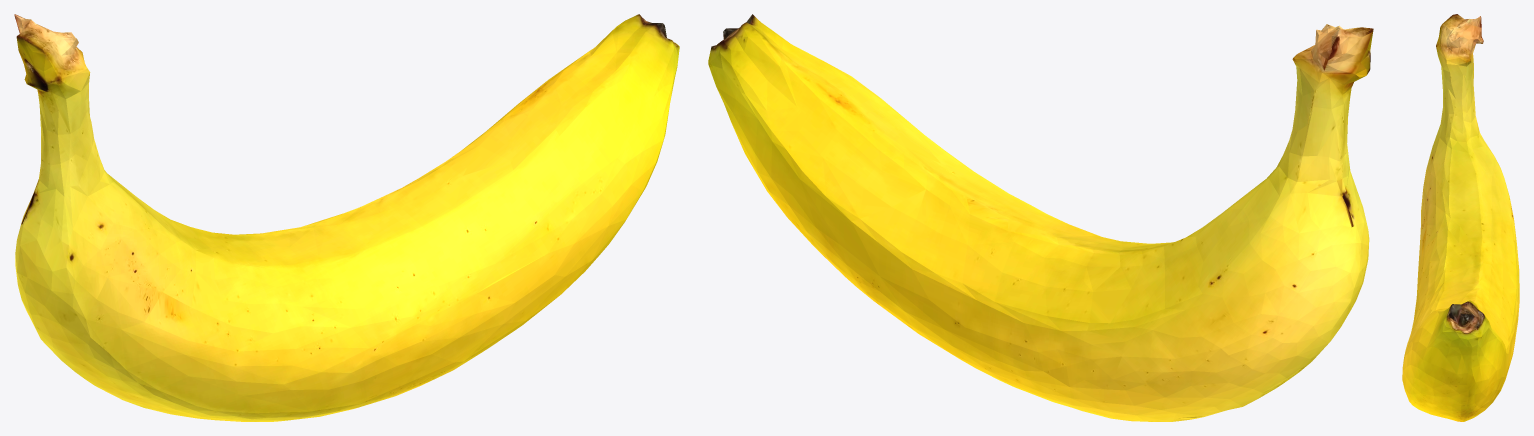
The model's file is simpleBanana-v1-transformed.glb.
3 views of the same model, side by side, from view 1: azimuth 30°, elevation 25°; view 2: azimuth 150°, elevation 25°; view 3: azimuth 270°, elevation 25° (orthographic). The views are drawn at different scales.
Parts seen in each view (by area): view 1: banana; view 2: banana; view 3: banana.
Boxes of the visible parts, <box> form: banana: <box>14,14,679,421</box>; banana: <box>708,14,1373,421</box>; banana: <box>1402,14,1519,421</box>.
Size of the model in its own units: 6.79 by 4.43 by 1.61.
Materials: 1 (1 with a texture image).
